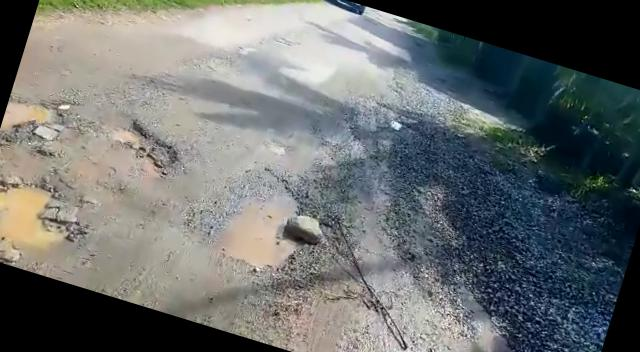pothole: (190, 178, 334, 289), (0, 164, 100, 282), (92, 110, 186, 182), (0, 83, 78, 160), (333, 337, 455, 352)
